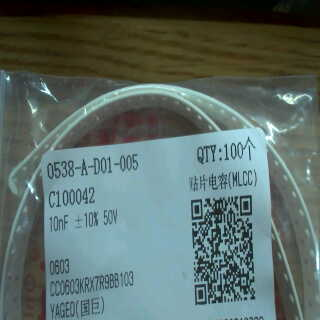10nF: (46, 211, 70, 234)
